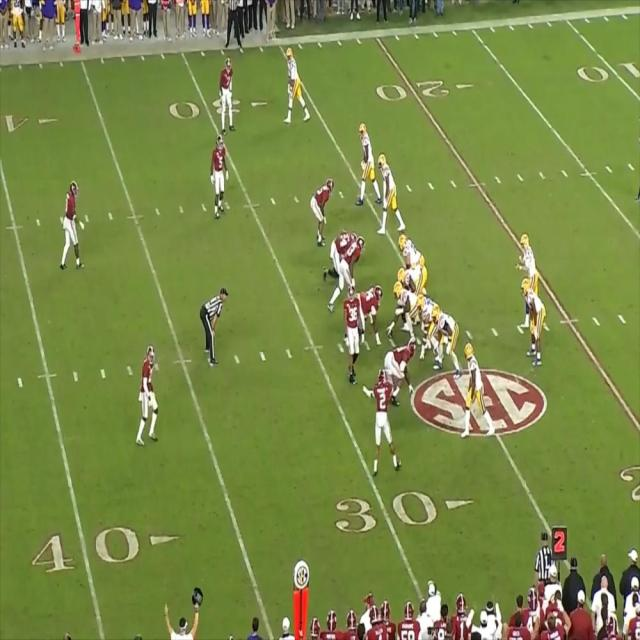center: (392, 280, 414, 330)
db: (374, 371, 392, 474), (140, 344, 156, 446), (62, 182, 79, 270), (214, 136, 228, 218), (220, 59, 236, 128)
lb: (309, 179, 331, 245), (346, 296, 362, 378), (340, 236, 363, 289)
qb: (521, 234, 538, 278)
skill: (465, 344, 491, 432), (521, 279, 543, 362), (379, 154, 401, 232), (284, 46, 305, 120), (358, 124, 376, 199)
